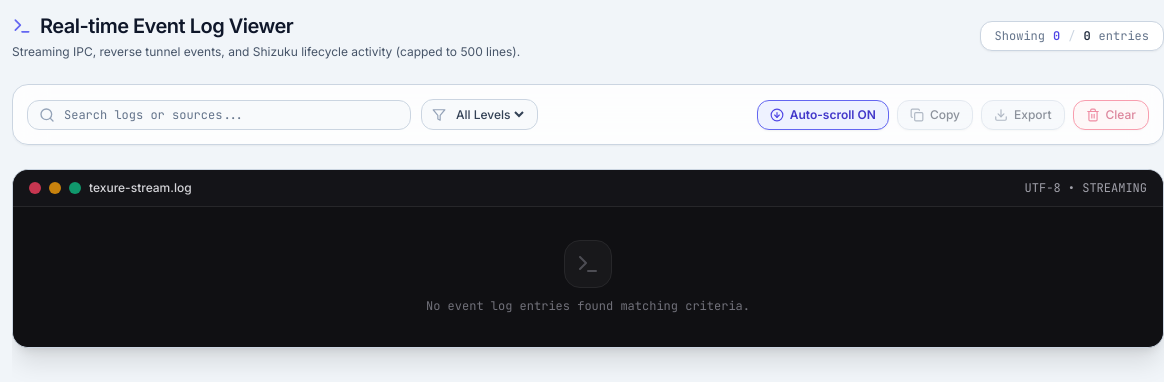
it: LogViewer Component › toggles auto-scroll mode
Click the button with test id "btn-autoscroll-toggle" at (823, 114), box x1=757 y1=100 x2=889 y2=130
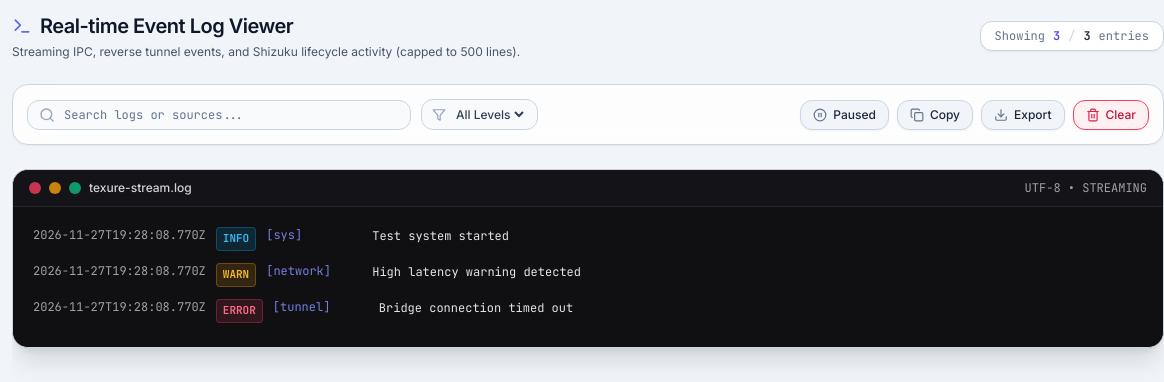
Expected: the button with test id "btn-autoscroll-toggle" reads "Paused"
Click the button with test id "btn-autoscroll-toggle" at (845, 114), box x1=800 y1=100 x2=889 y2=130
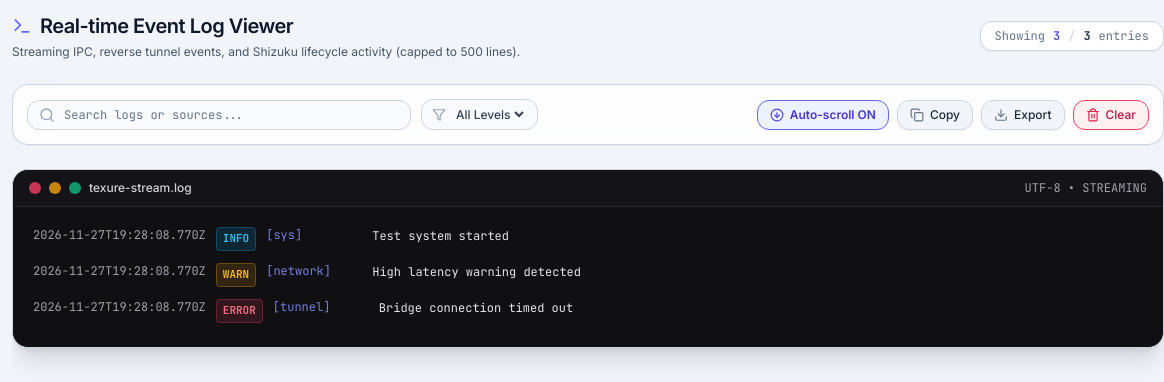
Expected: the button with test id "btn-autoscroll-toggle" reads "Auto-scroll ON", x1=757 y1=100 x2=889 y2=130
